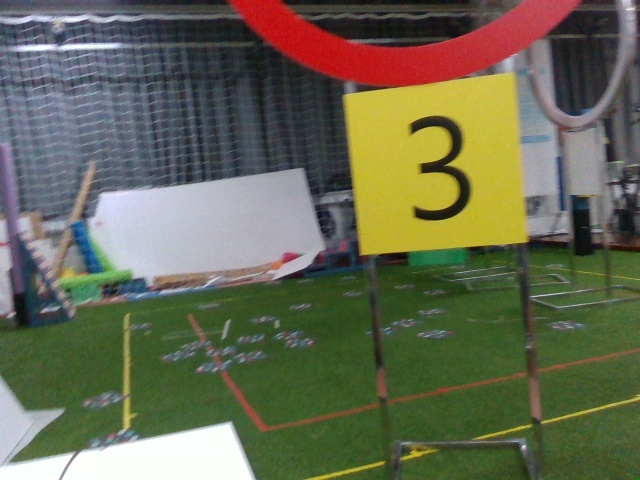target: (348, 89, 521, 245)
